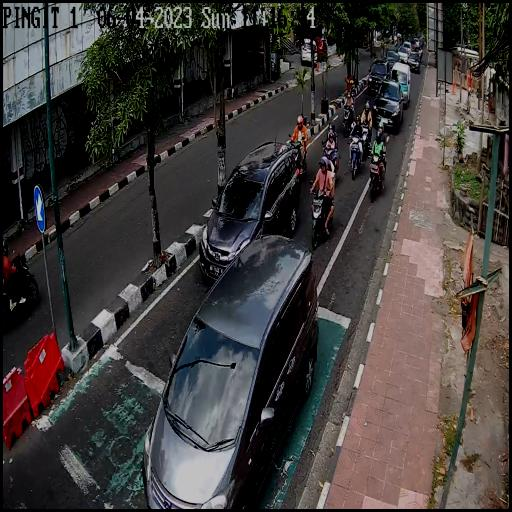mobil: (145, 239, 319, 506), (202, 141, 299, 275), (373, 76, 404, 134), (391, 60, 411, 110), (368, 55, 390, 93), (385, 49, 399, 70), (408, 50, 420, 72), (398, 45, 408, 63)
motor: (308, 181, 336, 248), (368, 144, 385, 202), (288, 134, 308, 178), (348, 129, 363, 179), (321, 140, 339, 178), (342, 102, 355, 138), (360, 122, 371, 160)
